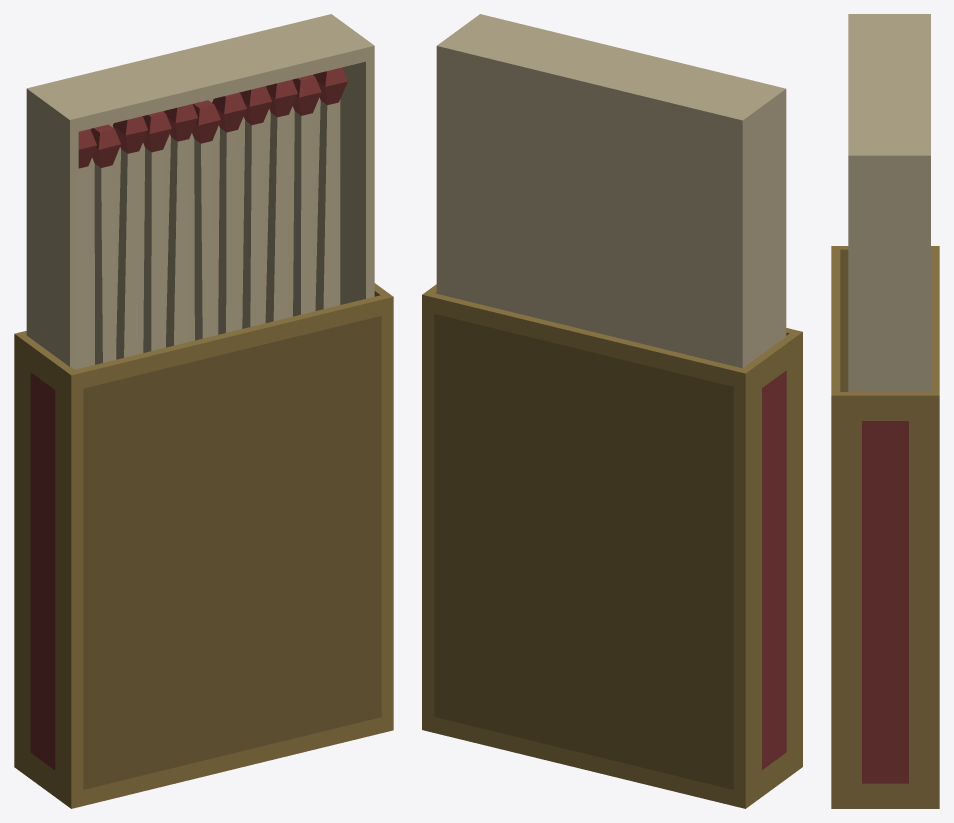
Rendered from matchbox.glb.
The picture shows the model from 3 angles, left to right: view 1: azimuth 30°, elevation 25°; view 2: azimuth 150°, elevation 25°; view 3: azimuth 270°, elevation 25°; orthographic projection. The views are drawn at different scales.
Parts seen in each view (by area): view 1: Matchbox; view 2: Matchbox; view 3: Matchbox.
Boxes of the visible parts, <box> form: Matchbox: <box>14,14,393,808</box>; Matchbox: <box>422,14,802,808</box>; Matchbox: <box>831,14,939,808</box>.
Size of the model in its own units: 0.5397 by 1.09 by 0.1653.
